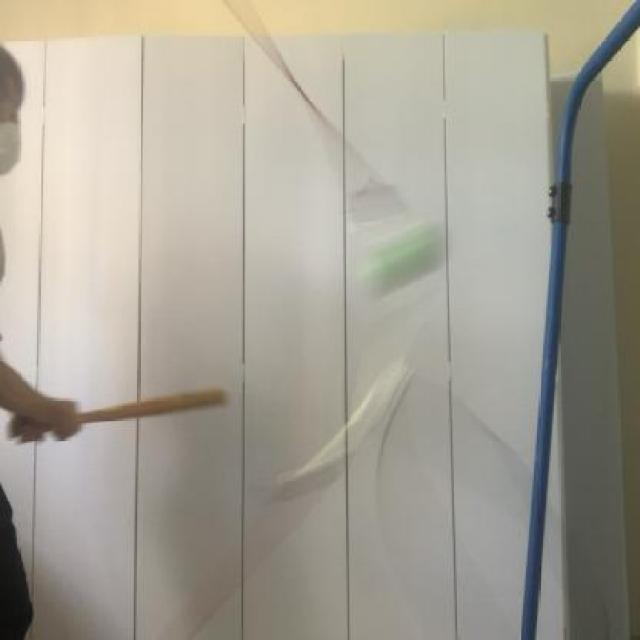baseball: (355, 205, 467, 322)
